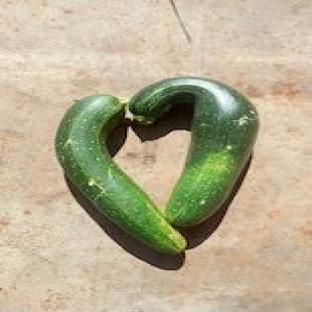Zucchini: (57, 95, 185, 254), (129, 77, 257, 226)
